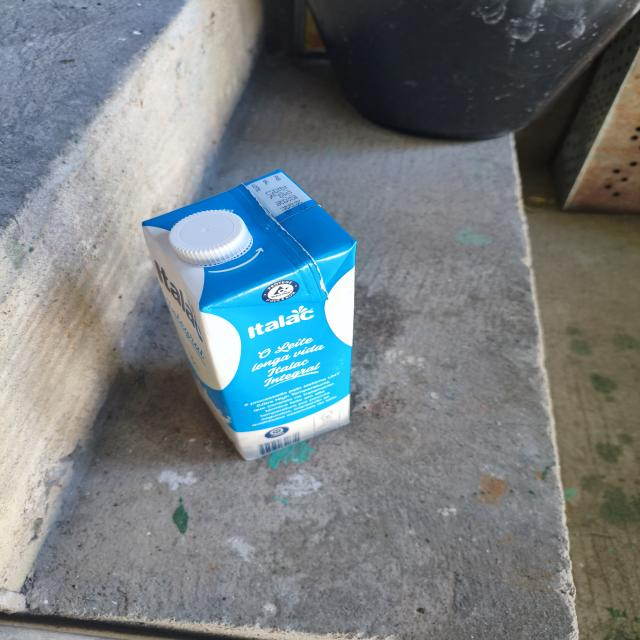Caixa de Leite: (131, 151, 366, 470)
